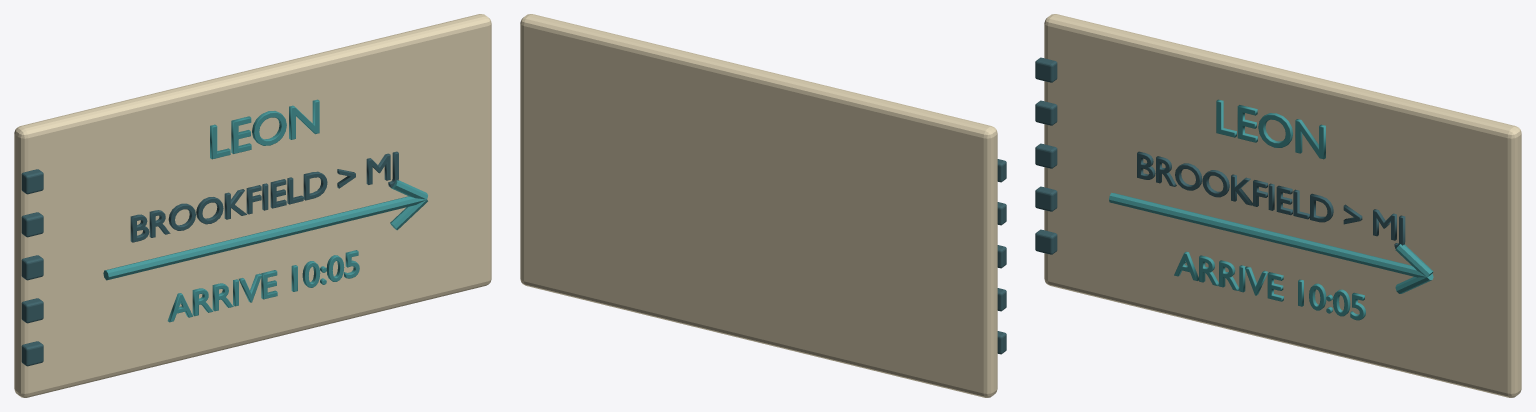
Rendered from ticket-leon-arrival-v1-BPhIPvqT.glb.
3 renders of one model, left to right at view 1: azimuth 30°, elevation 25°; view 2: azimuth 150°, elevation 25°; view 3: azimuth 330°, elevation 25°, orthographic.
Visible parts, largest first — view 1: Ticket stock, Route, Journey line, Time, Owner, Perforation 1, Perforation 2, Perforation 3, Perforation 4, Perforation 5; view 2: Ticket stock; view 3: Ticket stock, Route, Journey line, Time, Owner, Perforation 1, Perforation 2, Perforation 3, Perforation 4, Perforation 5, Arrow upper.
Part boxes in pixels (<box>): Ticket stock: <box>14,14,491,397</box>; Route: <box>130,151,398,242</box>; Journey line: <box>103,196,426,280</box>; Time: <box>167,250,359,322</box>; Owner: <box>210,99,319,159</box>; Perforation 1: <box>21,341,43,366</box>; Perforation 2: <box>21,298,43,323</box>; Perforation 3: <box>21,255,43,280</box>; Perforation 4: <box>21,212,43,237</box>; Perforation 5: <box>21,169,43,194</box>; Ticket stock: <box>520,14,997,397</box>; Ticket stock: <box>1044,14,1521,397</box>; Route: <box>1137,151,1405,248</box>; Journey line: <box>1109,192,1426,277</box>; Time: <box>1174,251,1365,320</box>; Owner: <box>1216,99,1325,159</box>; Perforation 1: <box>1035,229,1057,254</box>; Perforation 2: <box>1035,186,1057,211</box>; Perforation 3: <box>1035,143,1057,168</box>; Perforation 4: <box>1035,100,1057,125</box>; Perforation 5: <box>1035,57,1057,82</box>; Arrow upper: <box>1395,244,1433,276</box>.
Size of the model in its own units: 1.85 by 1 by 0.136.
